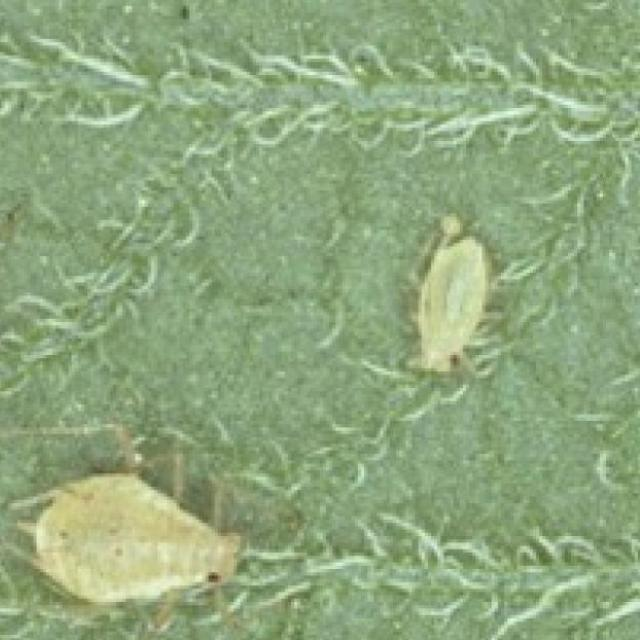Aphids: (0, 404, 259, 640), (390, 194, 503, 399)
